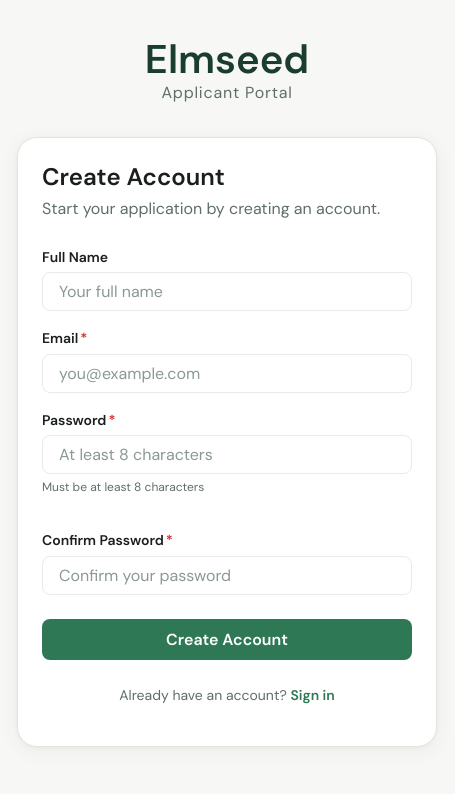
Test: SignupPage › Form Submission › should display error message on failed signup
Type "Test User" into the field labelled "Full Name" at (227, 292), box x1=42 y1=272 x2=412 y2=311
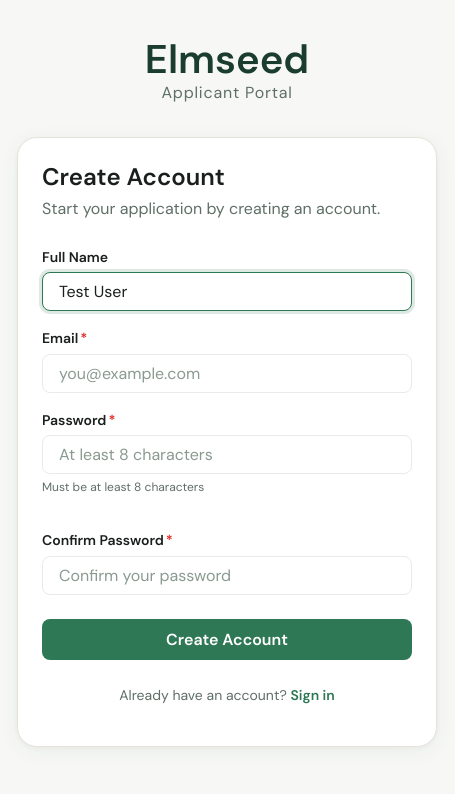
Type "existing@example.com" into the field labelled "Email*" at (227, 373), box x1=42 y1=354 x2=412 y2=393
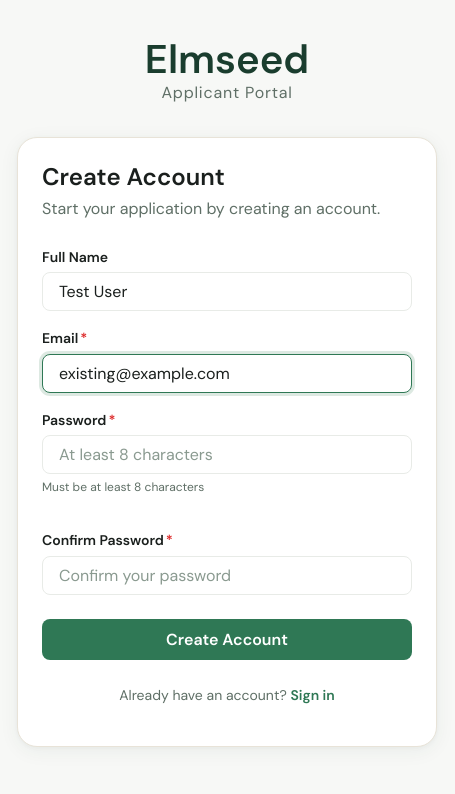
Type "password123" into the password field labelled "Password*" at (227, 455), box x1=42 y1=435 x2=412 y2=474
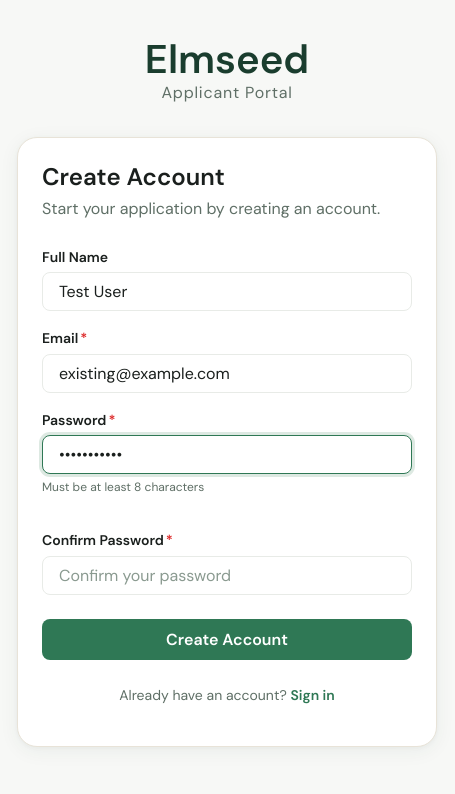
Type "password123" into the password field labelled "Confirm Password*" at (227, 575), box x1=42 y1=556 x2=412 y2=595
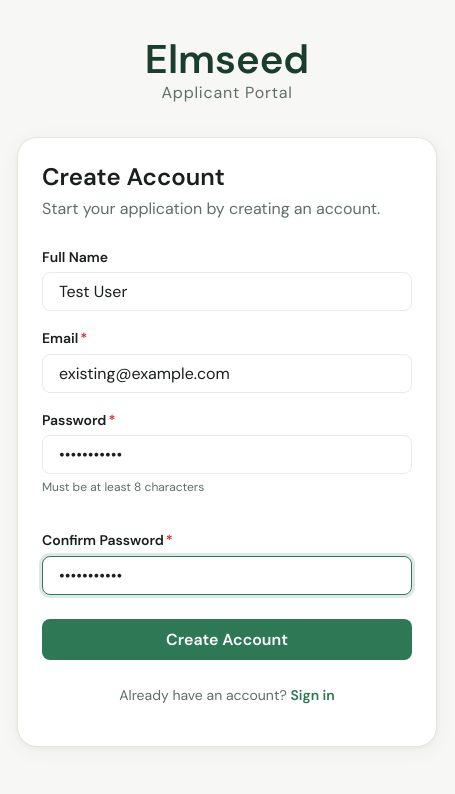
Click the button "Create Account" at (227, 639), box x1=42 y1=619 x2=412 y2=660
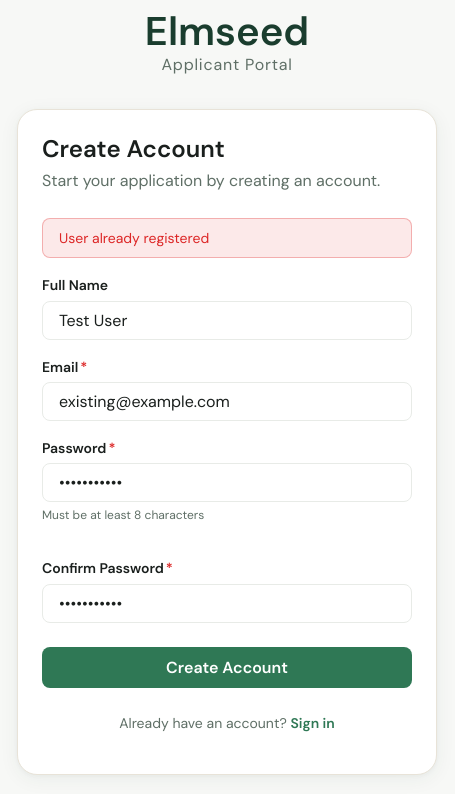
Result: the message reads "User already registered" at x1=59 y1=229 x2=209 y2=247
